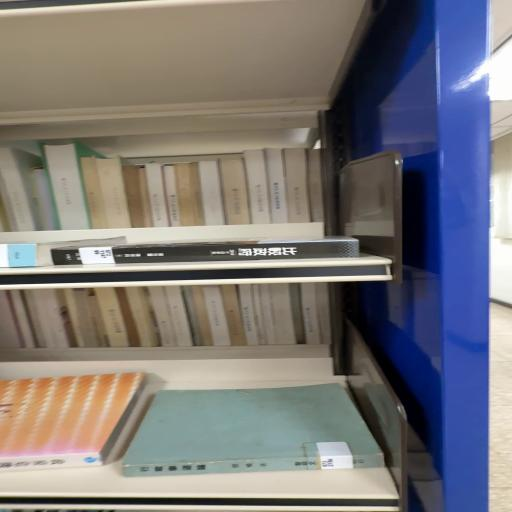flat: (123, 384, 386, 478), (1, 373, 148, 474), (52, 237, 360, 267)
